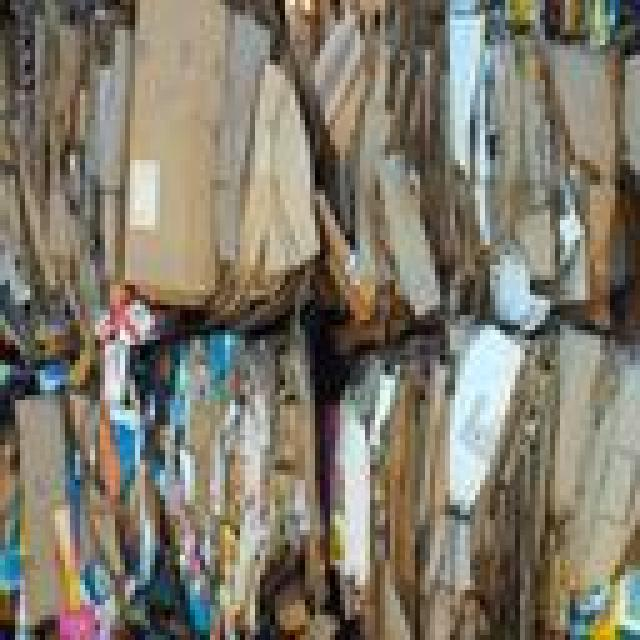cardboard: (0, 0, 635, 635), (445, 0, 635, 315), (155, 315, 325, 635), (5, 345, 175, 635), (310, 0, 460, 315), (0, 0, 125, 345), (520, 305, 635, 635), (420, 310, 525, 635), (120, 0, 220, 310), (325, 340, 420, 635), (225, 0, 315, 310)
